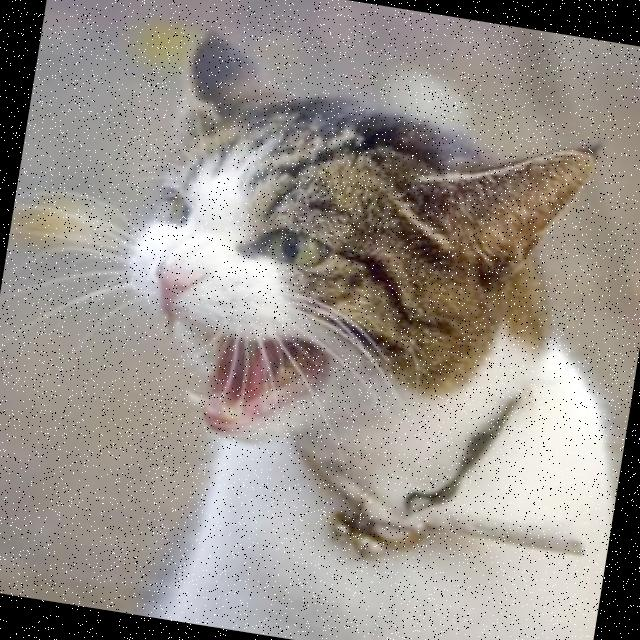Angry: (87, 144, 401, 490)
